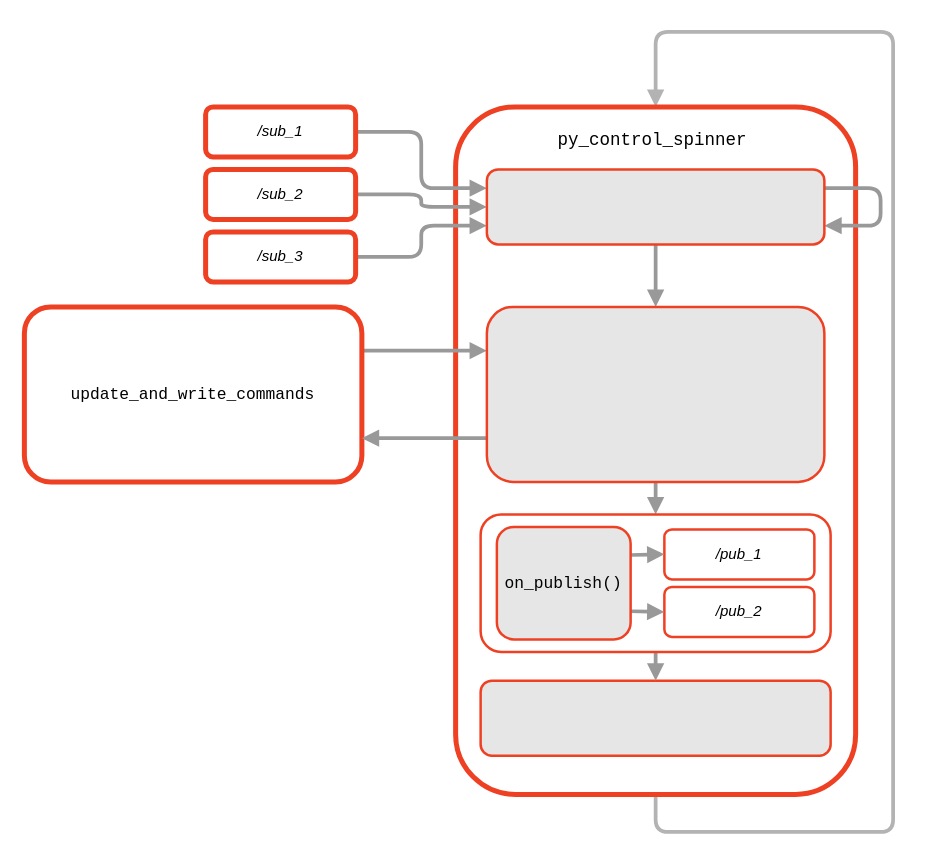
This 926x865 diagram has some shape labels left out. Here are the shapes that lost their labels. From the top down, the centre of each, then its label:
At pixel 655 206: "on_message()".
At pixel 655 393: "on_update()".
At pixel 655 717: "on_post_update()".
